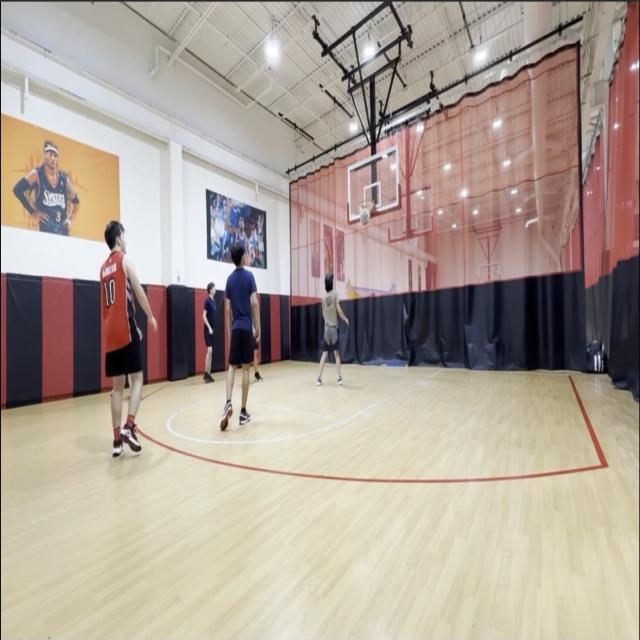Basketball Rim: (359, 198, 374, 225)
